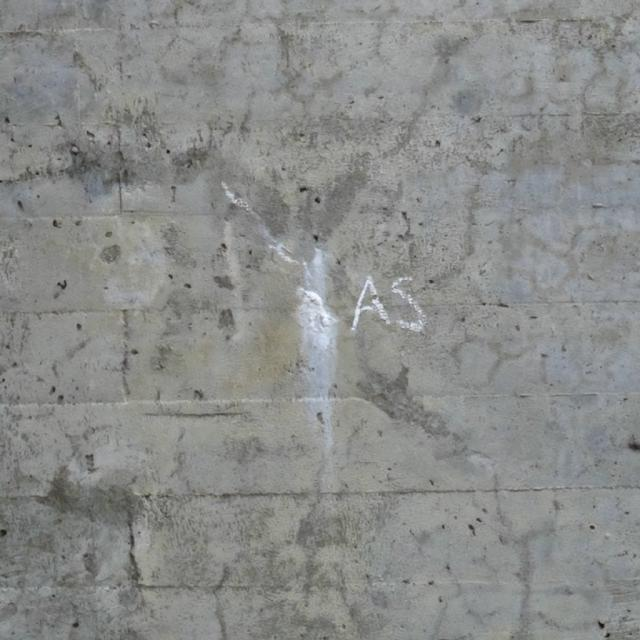D01: (298, 270, 336, 461)
